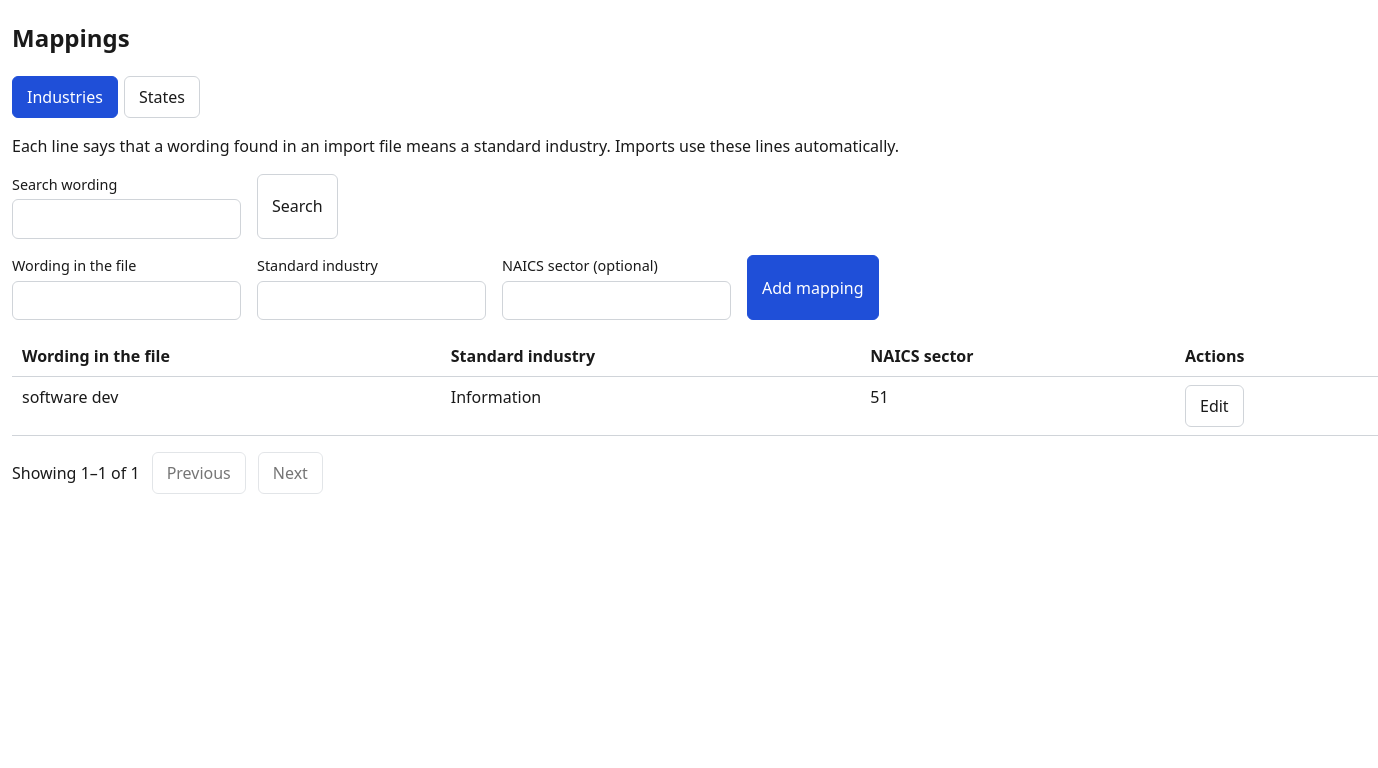
Test case: states › a 404 when saving a state shows the message and refreshes the list
Click the button "States" at (162, 97), box [124,76,200,118]
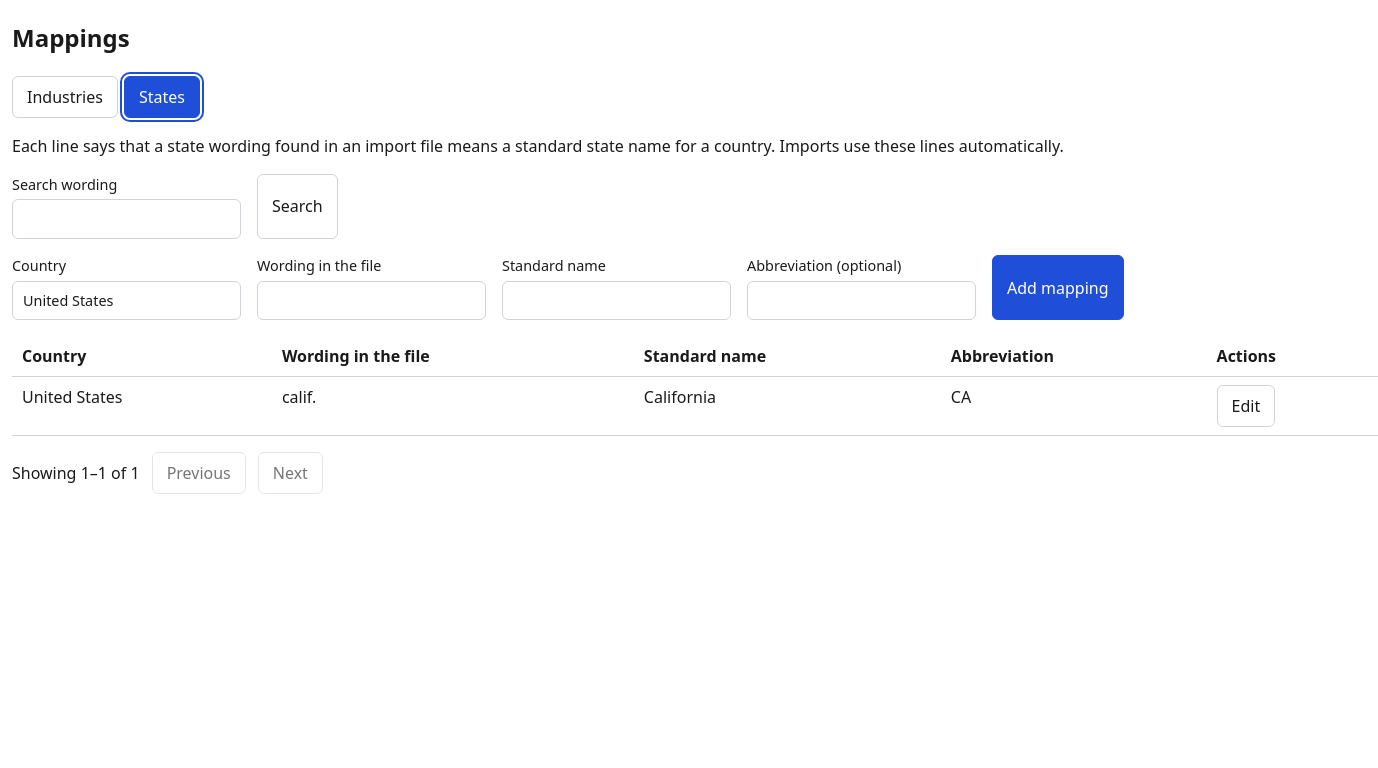
Expected: the text "calif." is shown, [272,377,634,436]
Click the button with aria-label "Edit calif." at (1246, 406), box [1217,385,1275,427]
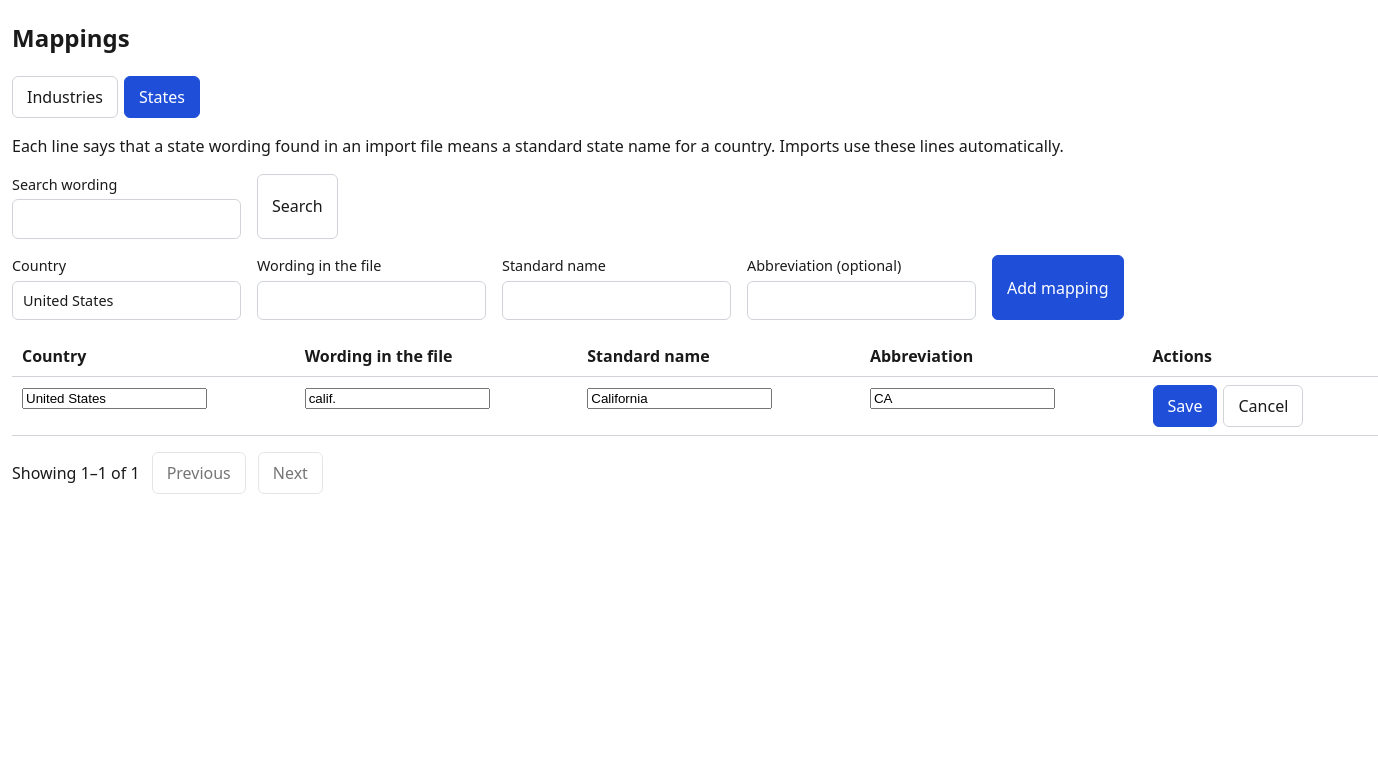
Click the button "Save" at (1185, 406), box [1153,385,1218,427]
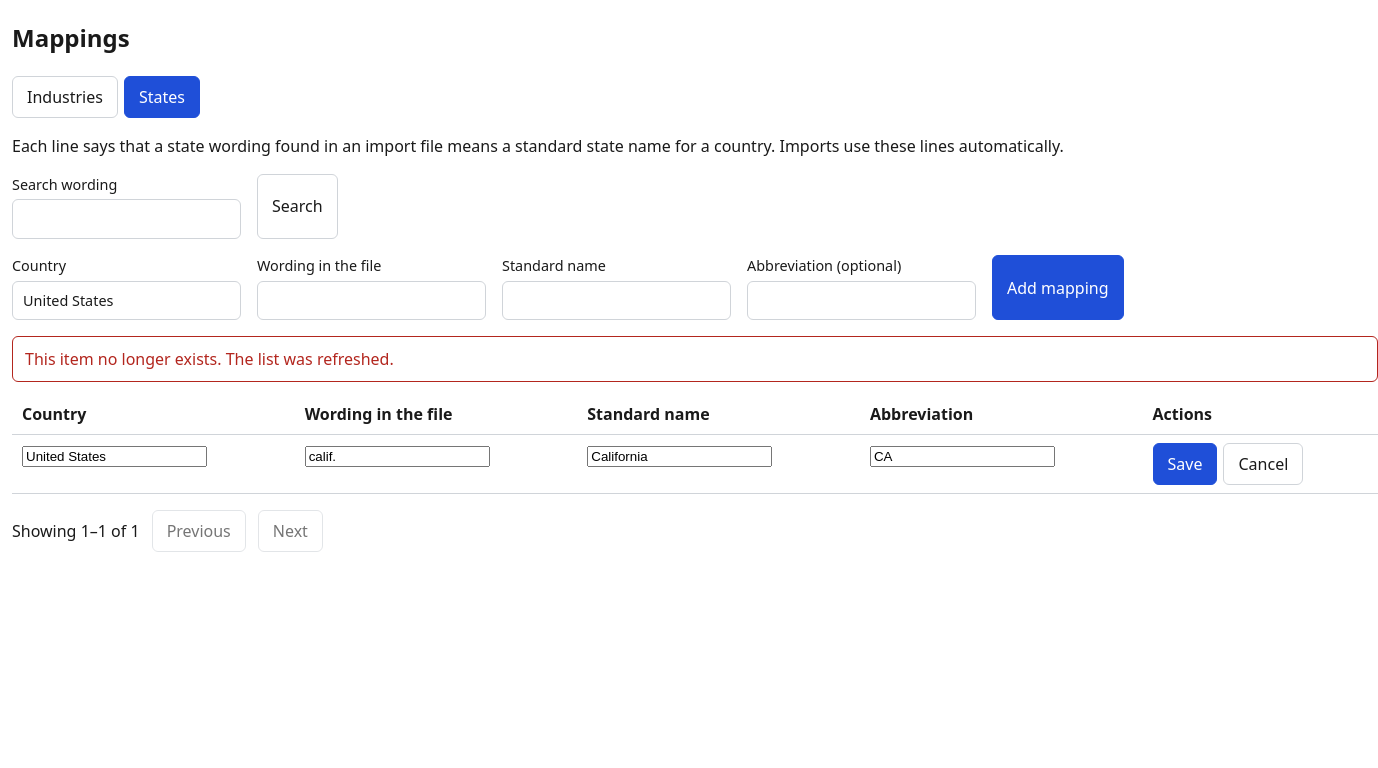
Expected: the message shows "no longer exists", [25,348,394,370]
